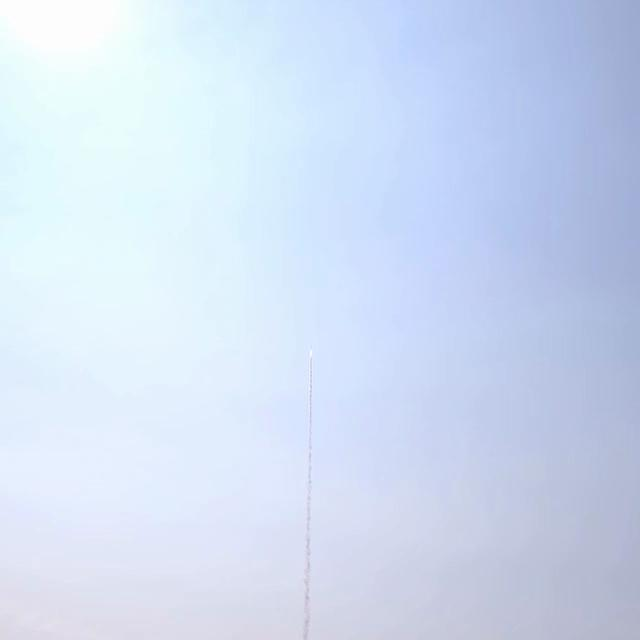smoke_trail_with_rocket: (301, 349, 310, 640)
